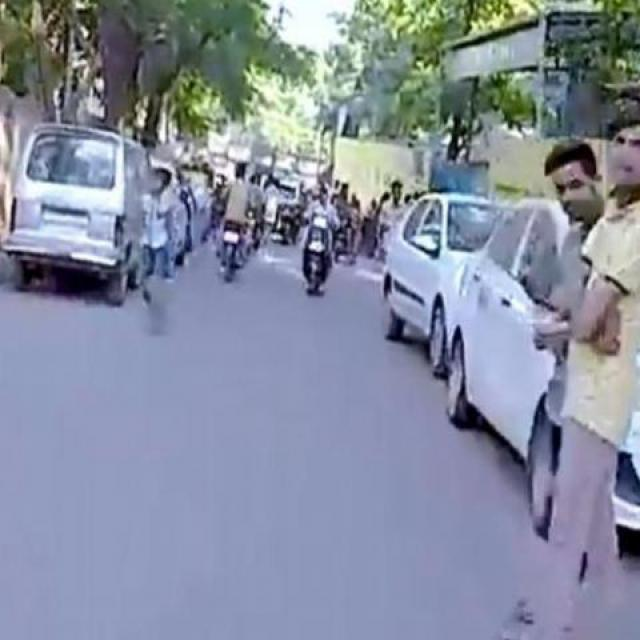Unmarked Bump: (260, 242, 303, 270), (334, 262, 382, 286)
